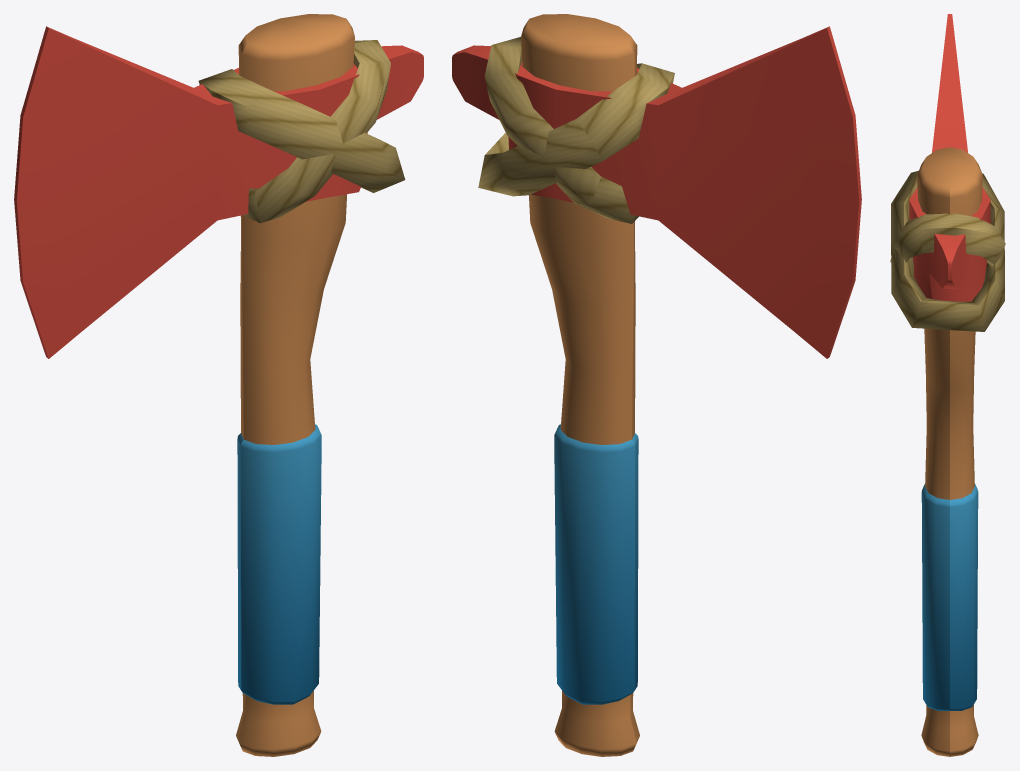
File: Axe.fbx
The picture shows the model from 3 angles, left to right: view 1: azimuth 30°, elevation 25°; view 2: azimuth 150°, elevation 25°; view 3: azimuth 270°, elevation 25°; orthographic projection. The views are drawn at different scales.
Visible parts, largest first — view 1: Axe; view 2: Axe; view 3: Axe.
Boxes of the visible parts, x1,y1,x2,y2 form: Axe: (14, 14, 423, 756); Axe: (452, 14, 861, 756); Axe: (890, 14, 1005, 756).
Size of the model in its own units: 0.3322 by 0.6016 by 0.0991.
